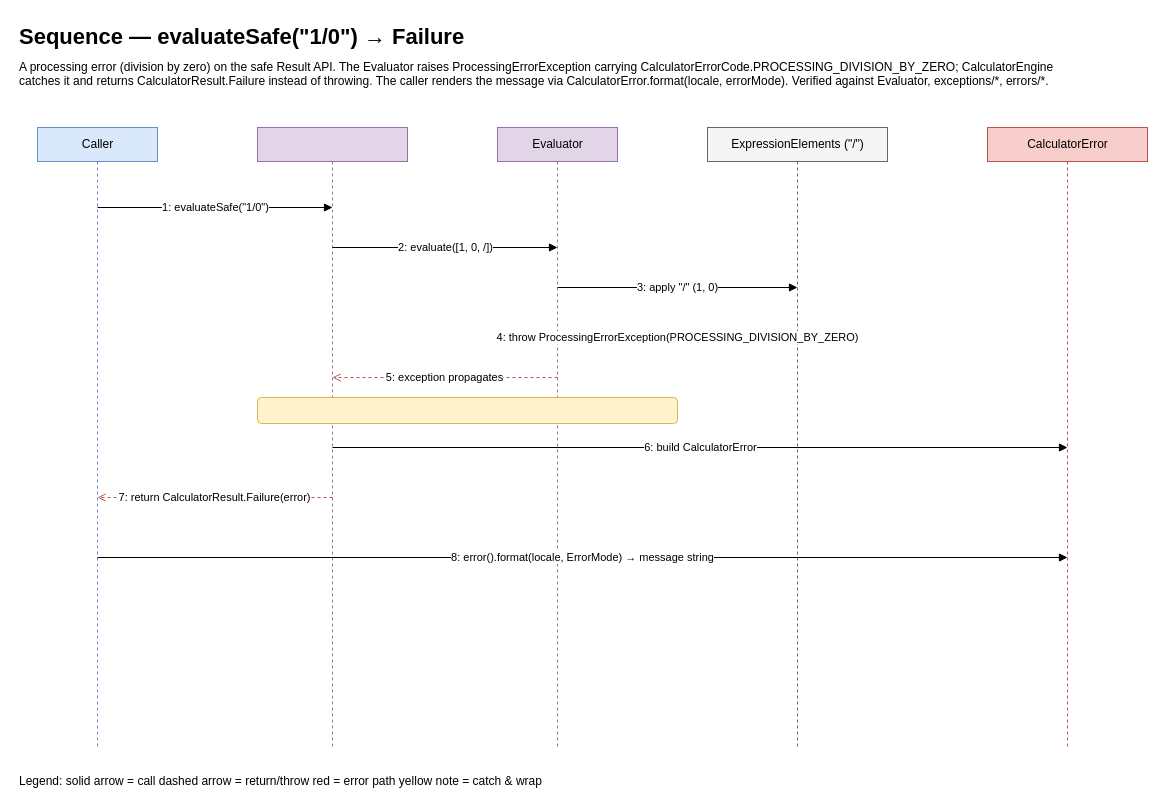
Image size: 1165x808. Some labels were removed from this diagram. The box of each missing label's shape, as (x1, y1, x2, y2) in pixels:
CalculatorEngine: (256, 126, 408, 748)
self: catch & wrap into CalculatorError(code, params, technicalDetail, position): (256, 396, 678, 424)
